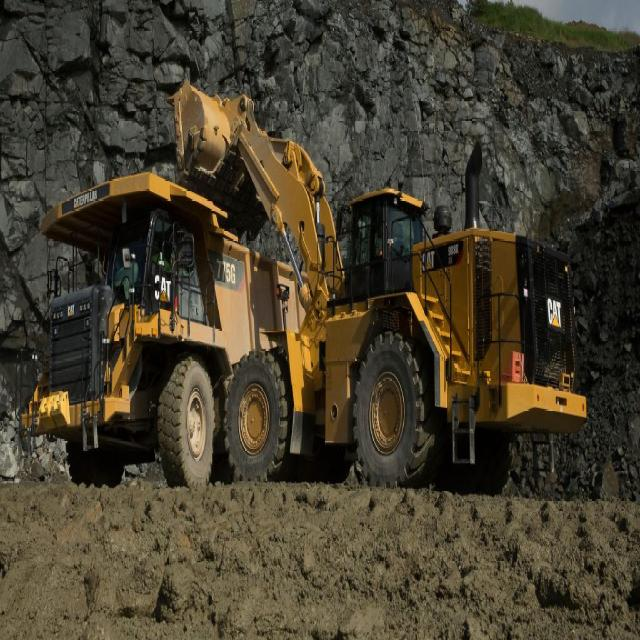buldozerpayloadergrader: (164, 74, 589, 504)
dump_truck: (32, 156, 238, 502)
